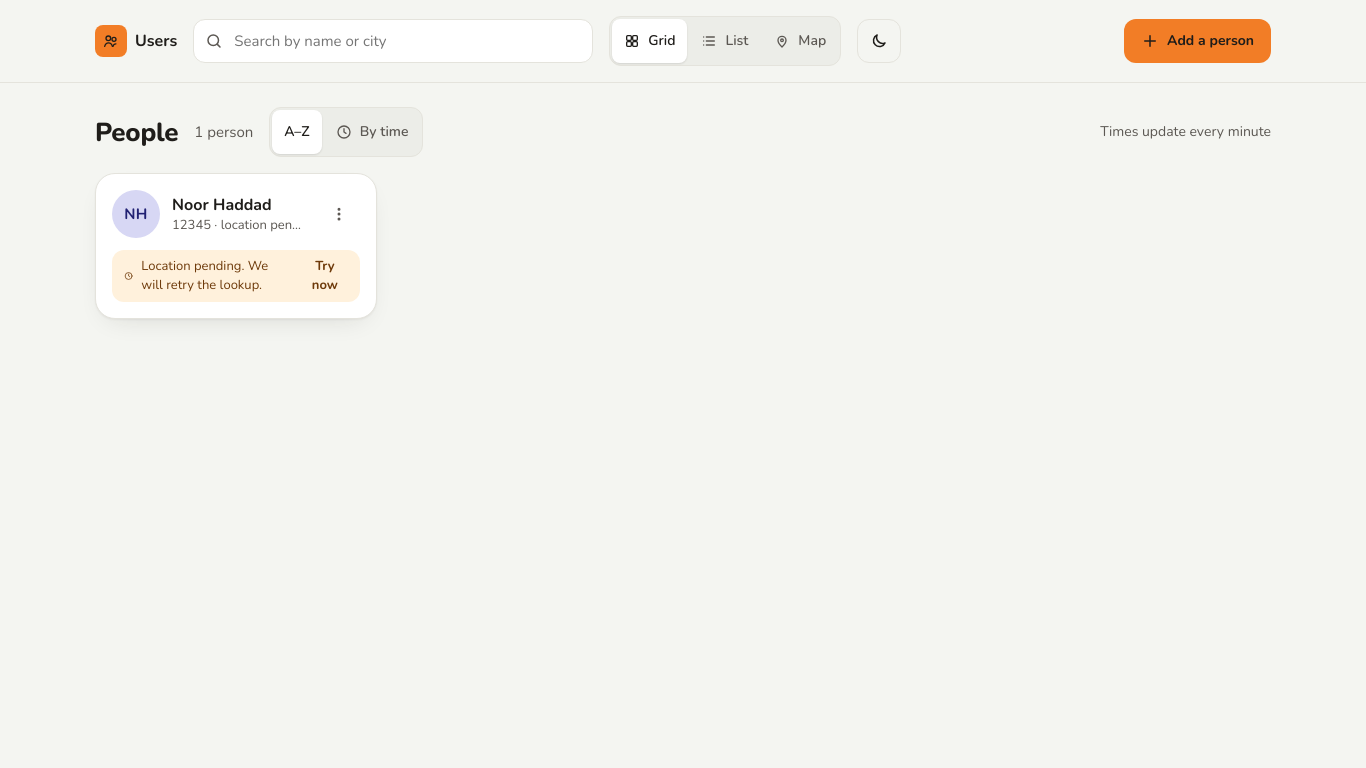
Test case: App › a failed retry shows why
This screenshot has width=1366, height=768.
Expected: the list named "People" is shown, [95,173,377,319]
Click the button "Try now": coordinates (325, 276) [294,254,356,298]
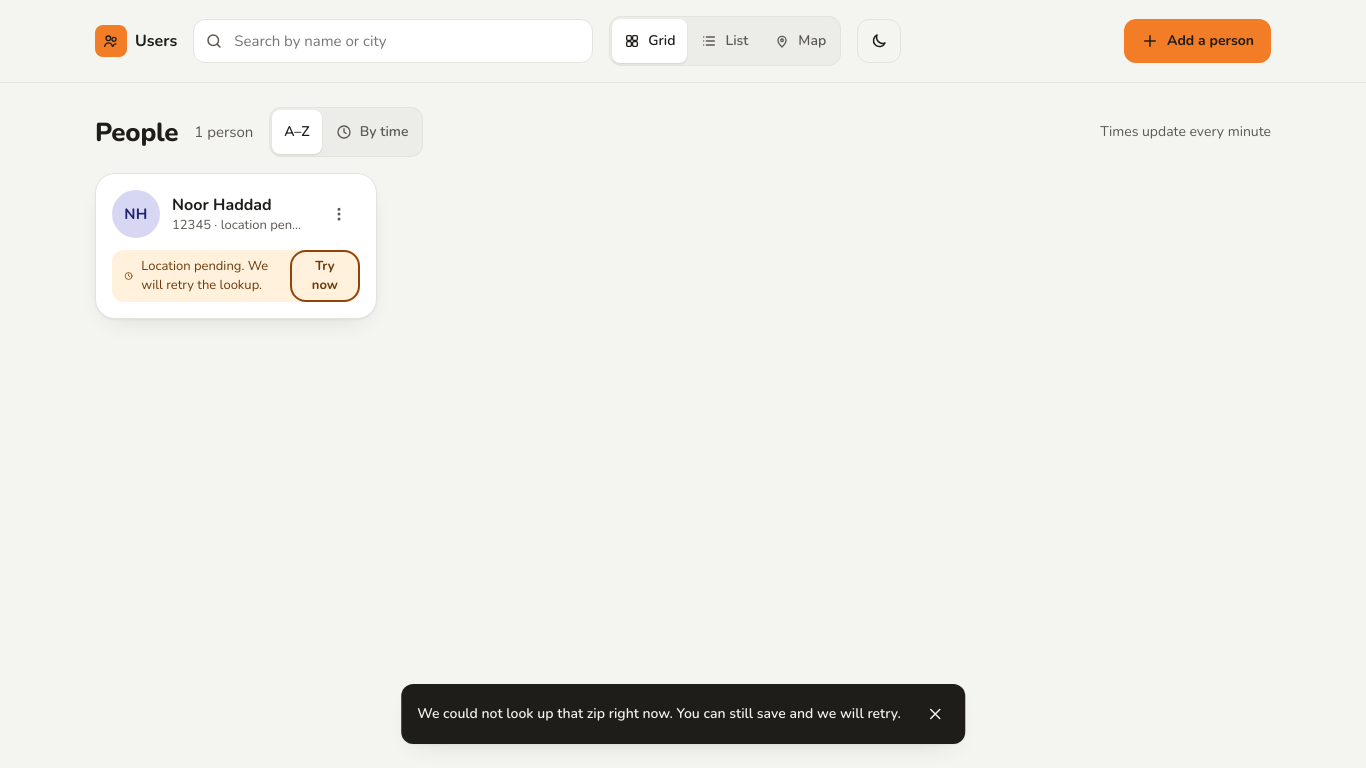
Expected: the message shows "We could not look up that zip right now.", [417,704,901,723]
